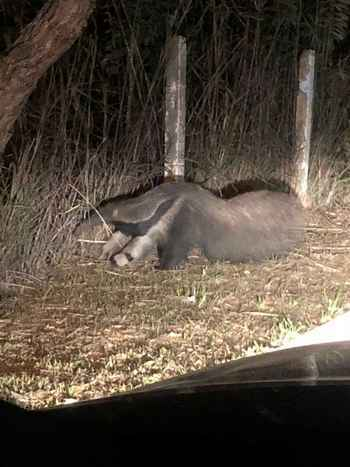TamanduaBandeira: (70, 179, 307, 274)
